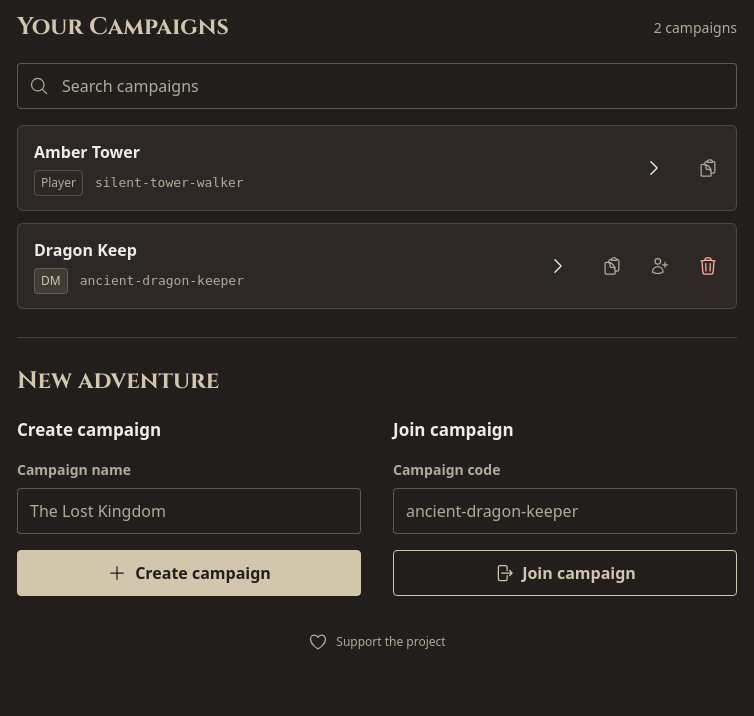
Test case: copies a campaign code and reports clipboard failures
Click the button named "Copy code for Dragon Keep" at (612, 266), box [590,244,634,288]
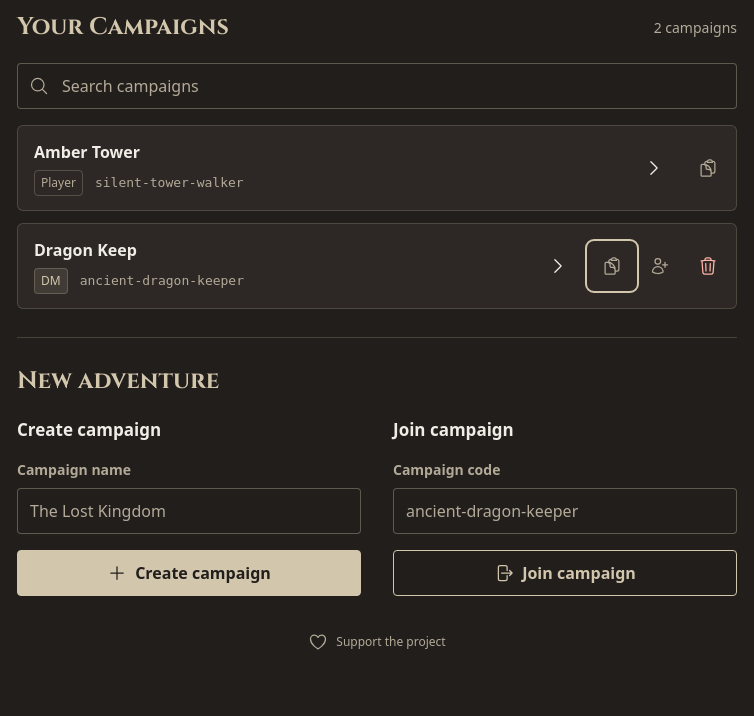
Click the button named "Copy code for Dragon Keep" at (612, 266), box [590,244,634,288]
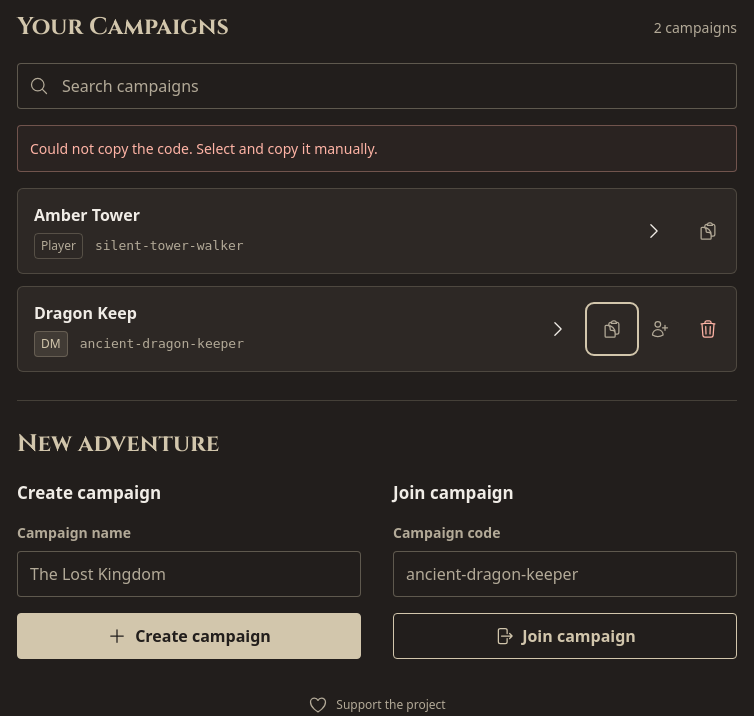
Expected: the message shows "Could not copy the code.", [30,139,378,158]
